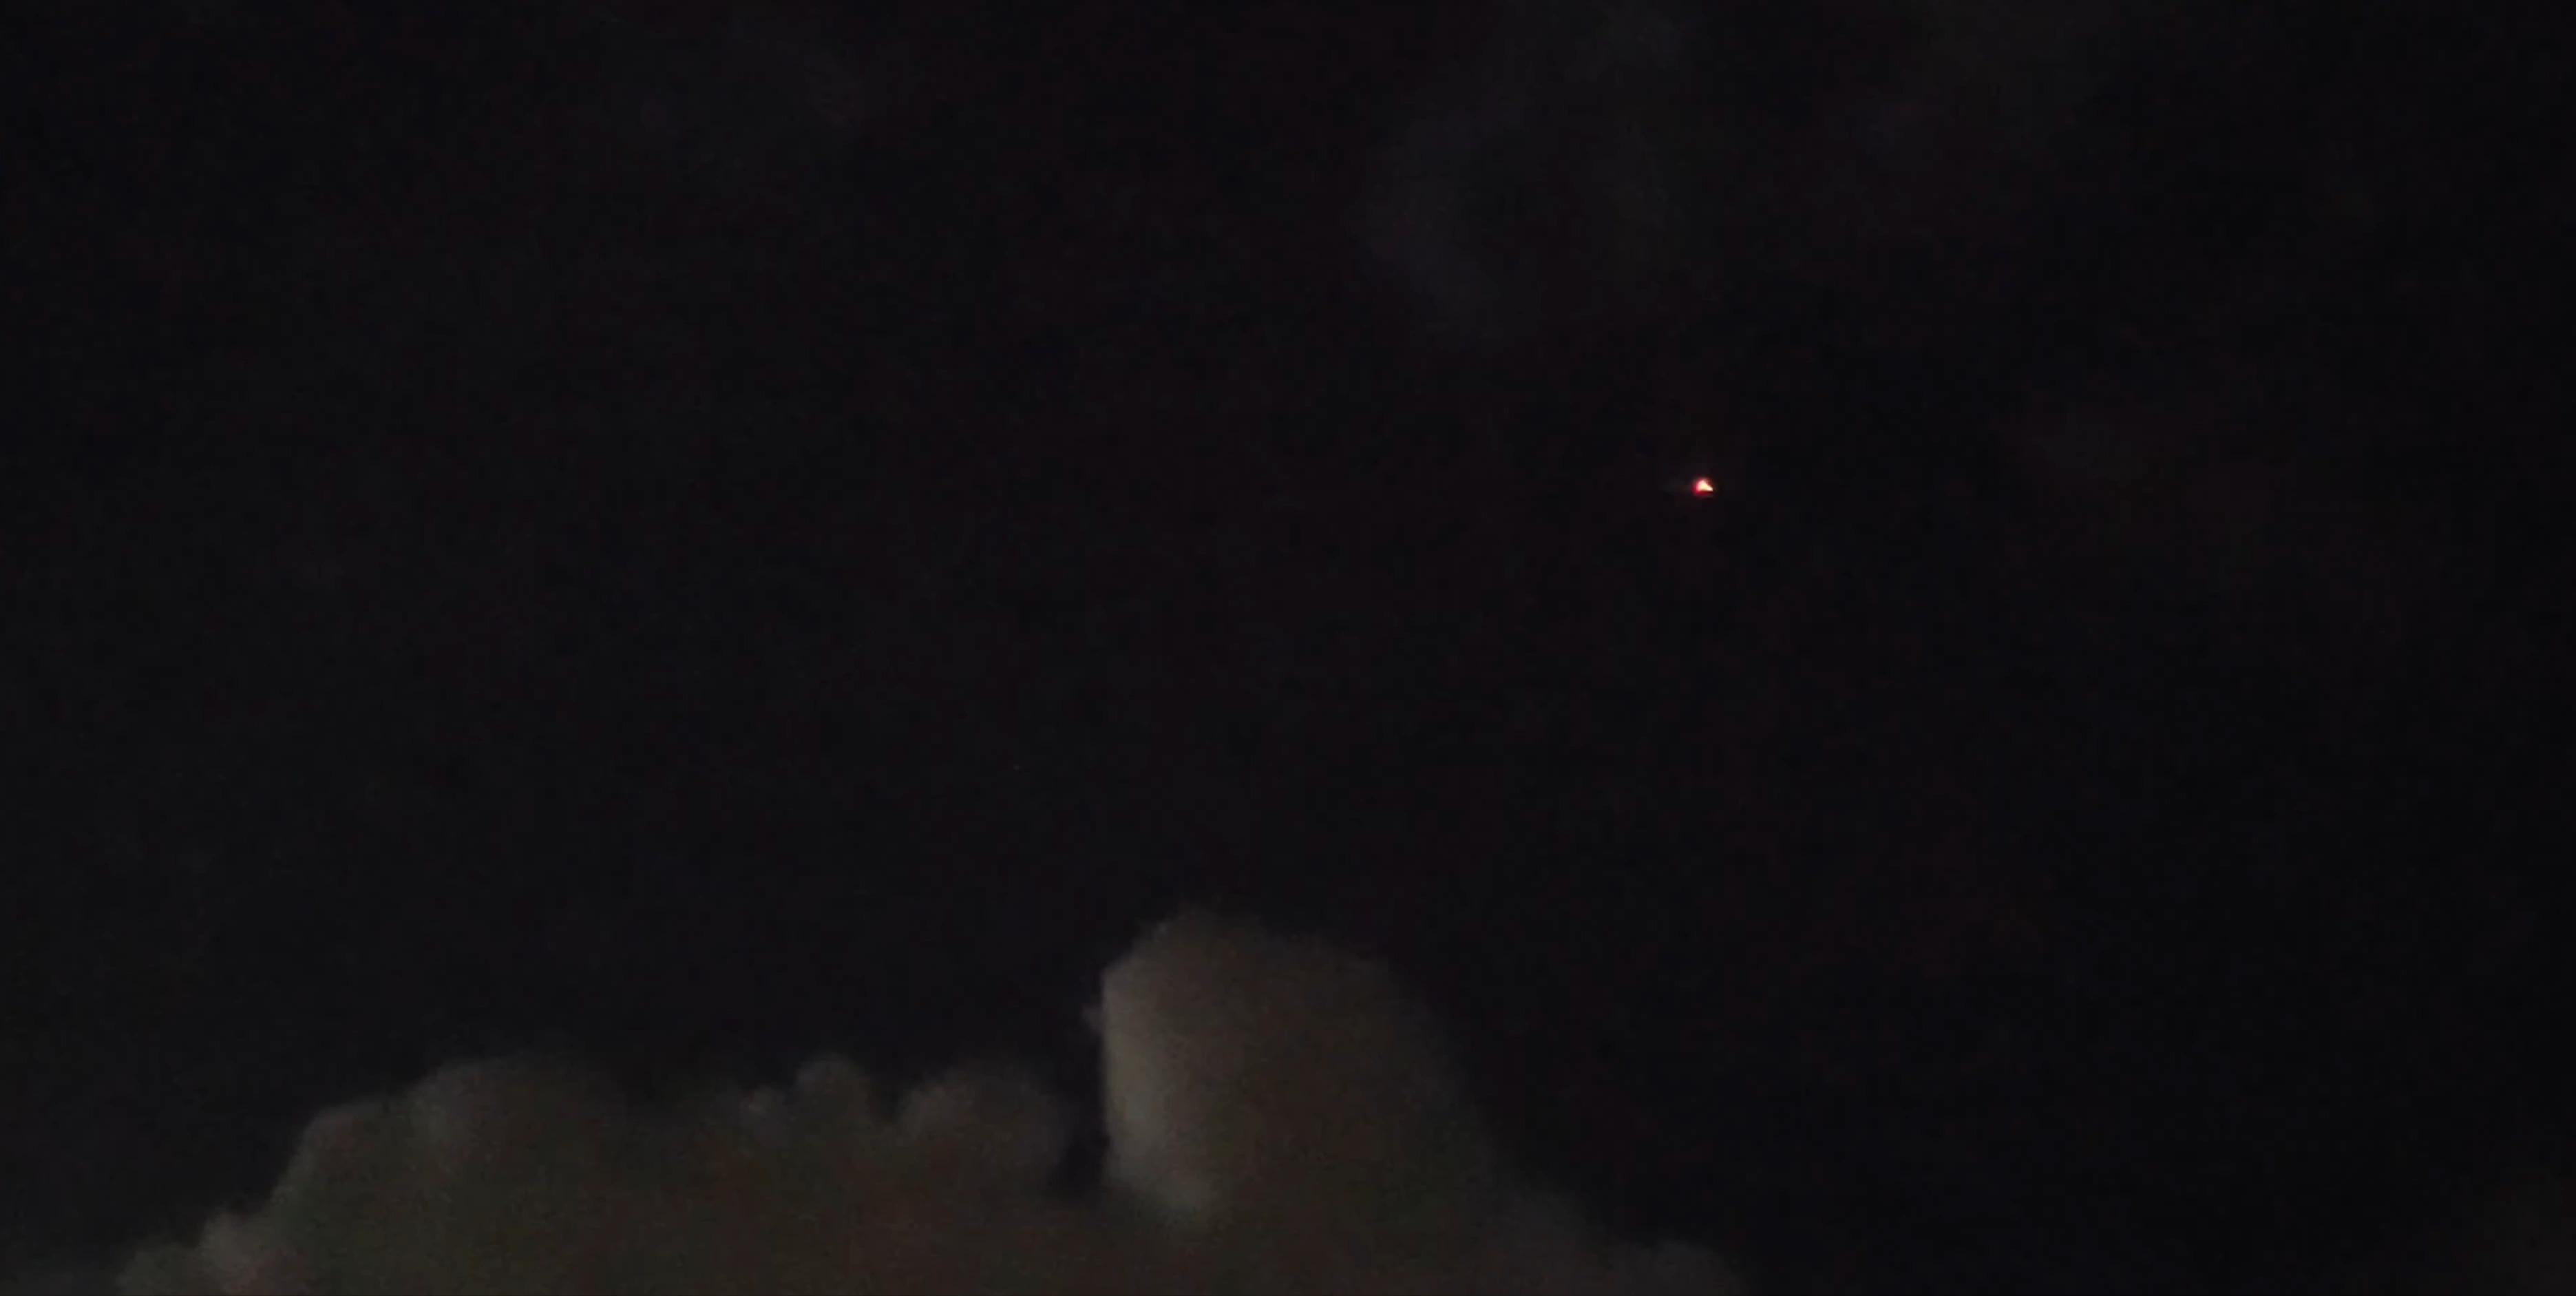Plane: (1637, 455, 1773, 526)
